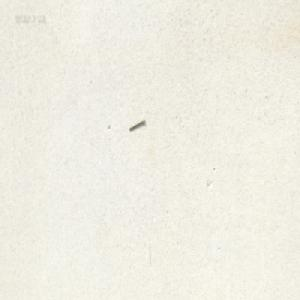Bolt: (128, 118, 144, 131)
